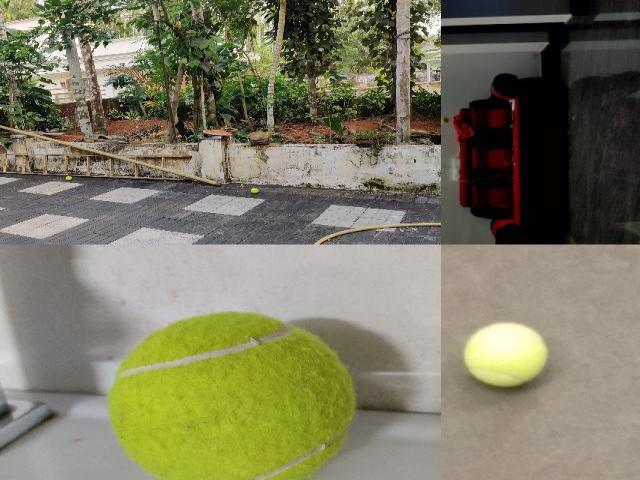tennis-ball: (104, 310, 361, 479), (464, 322, 548, 389), (441, 118, 449, 124), (250, 188, 258, 193), (65, 176, 71, 180)
